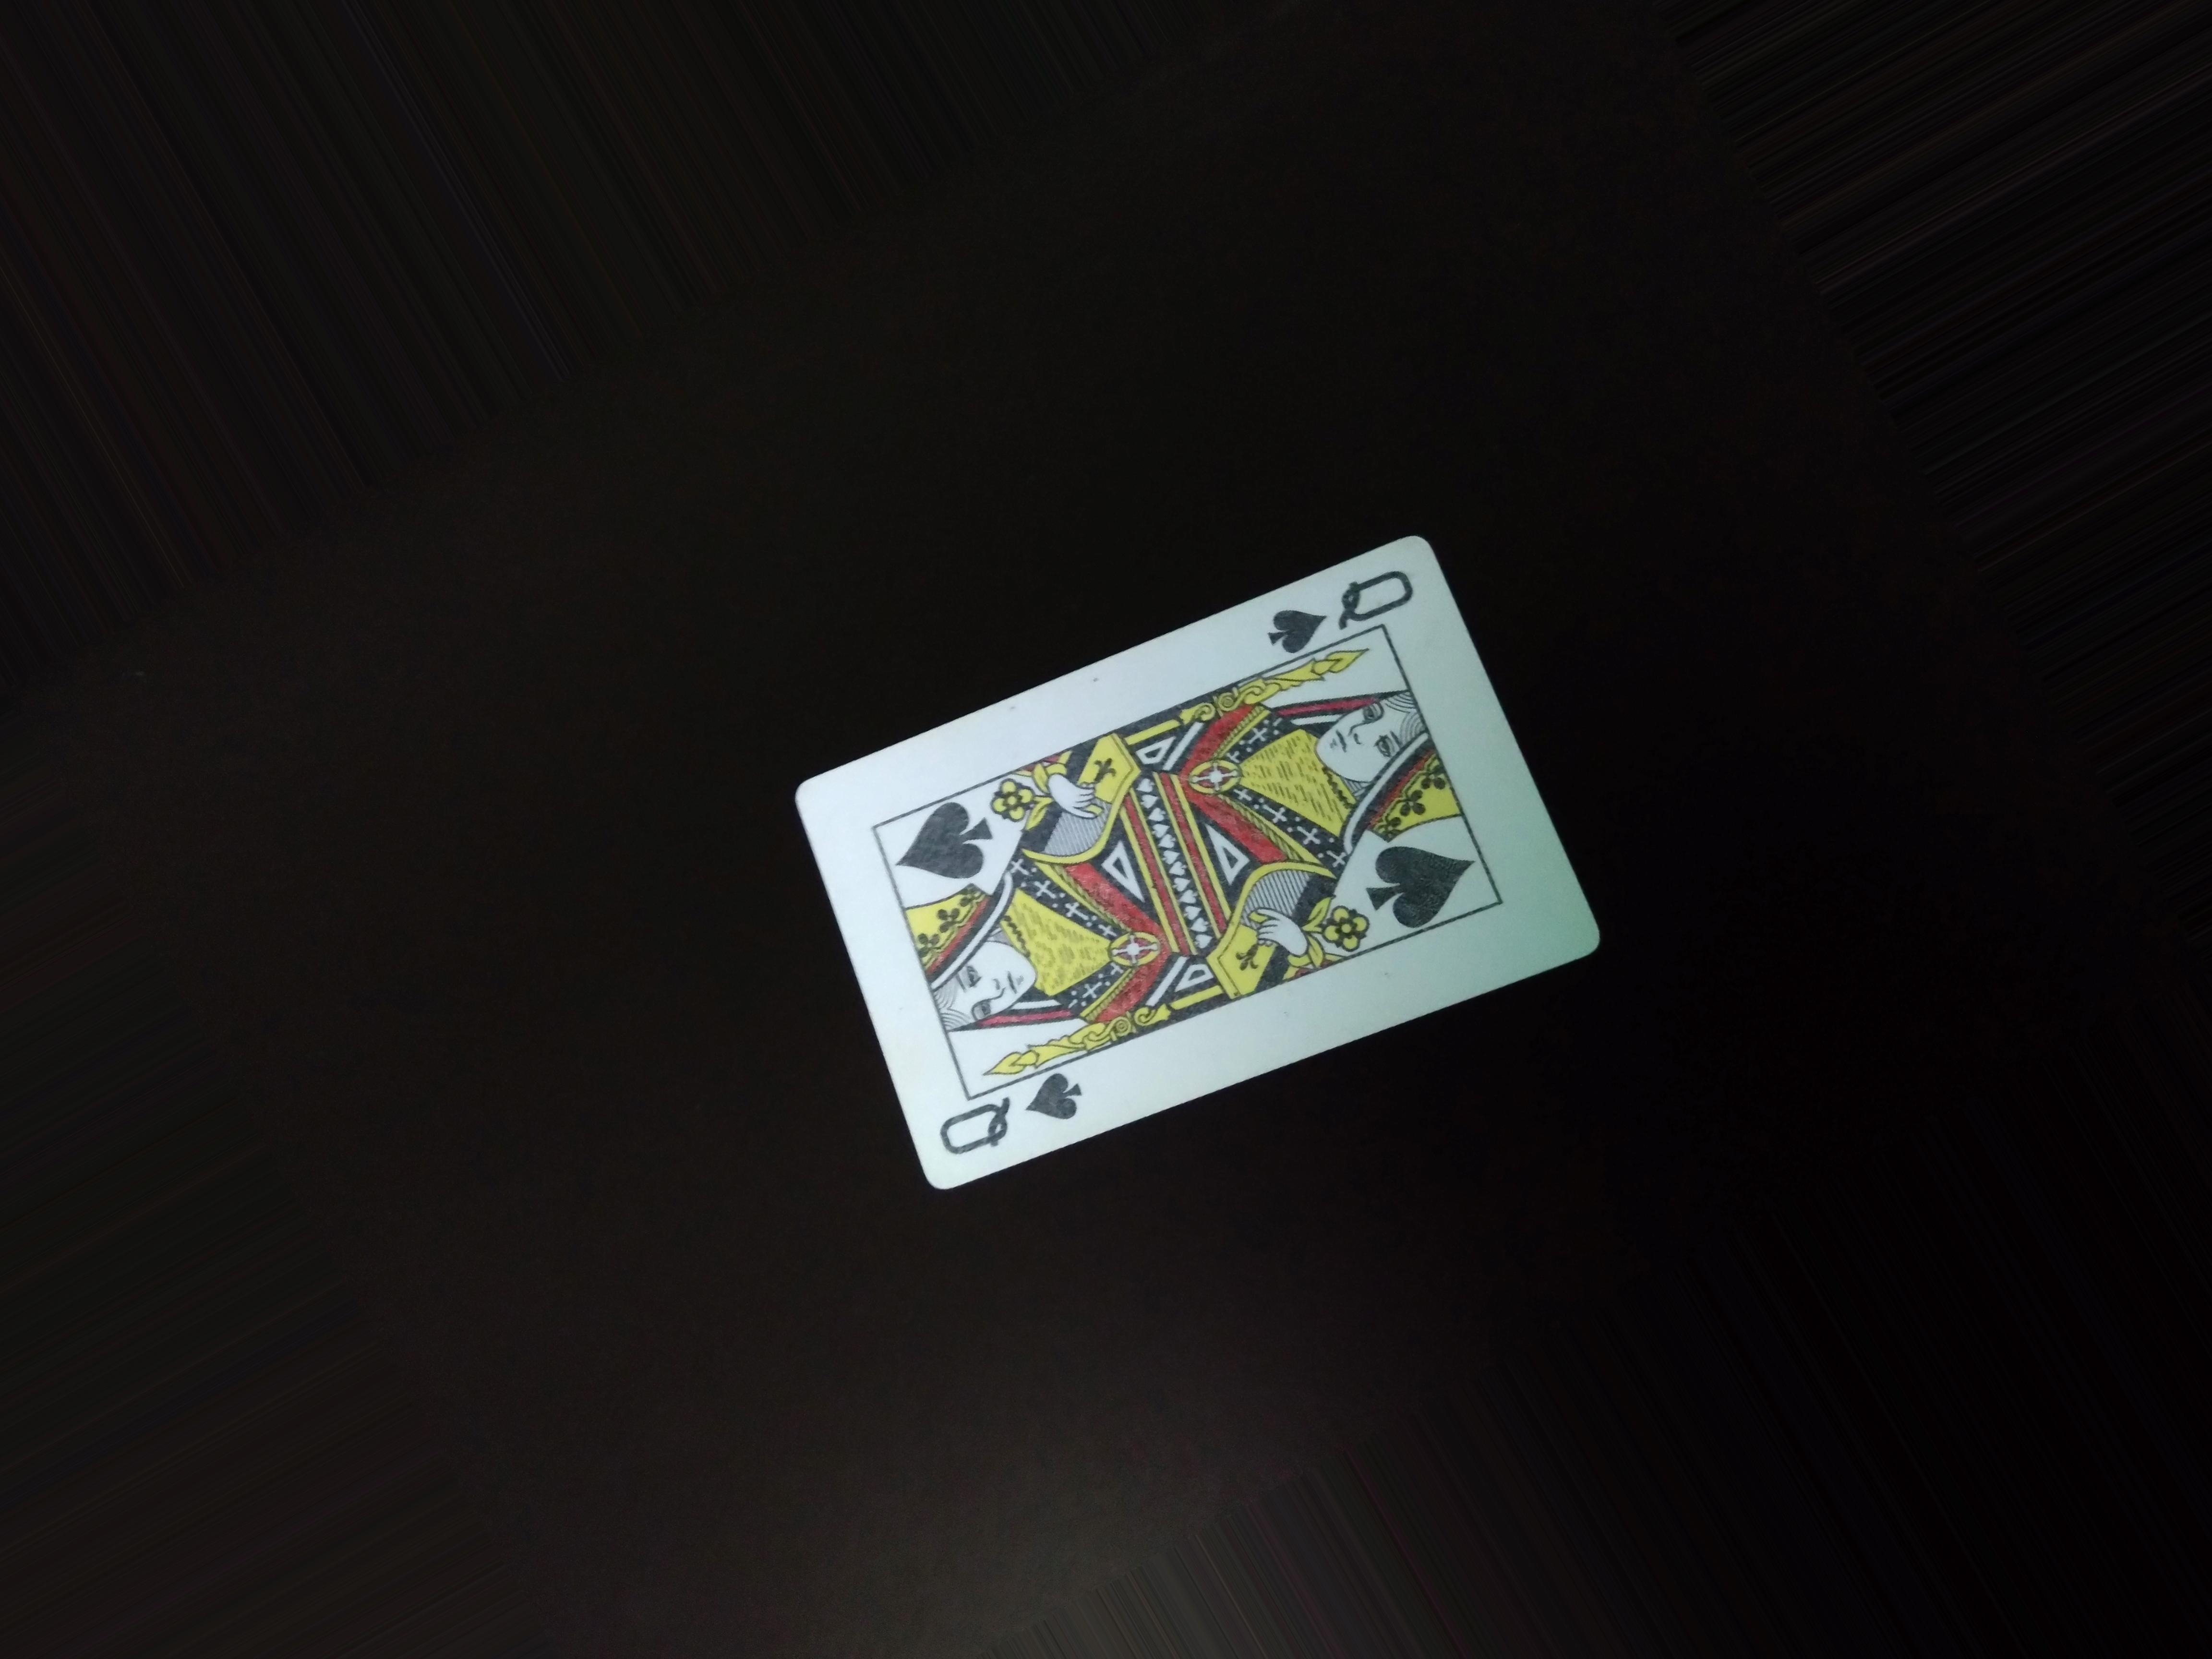QS: (1261, 559, 1423, 648)
